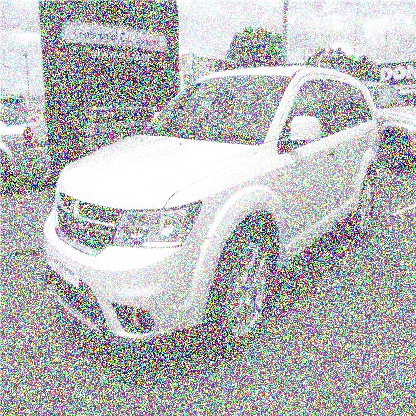Vehicle: (44, 67, 380, 352)
